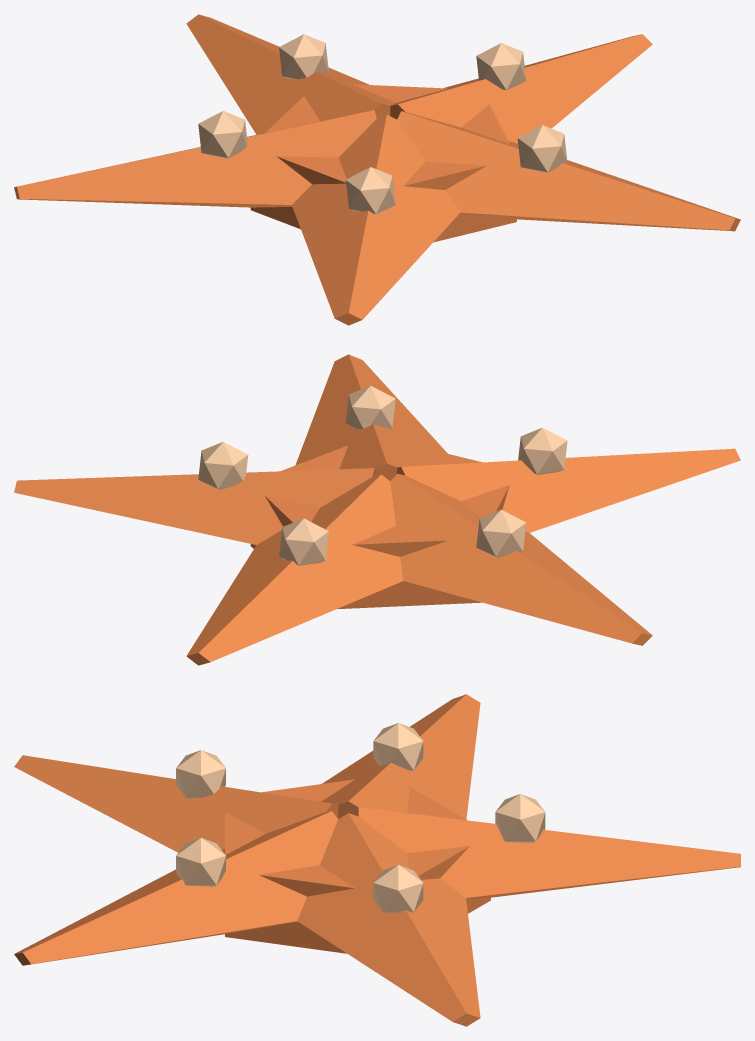
File: starfish.glb
The picture shows the model from 3 angles, top to bottom: view 1: azimuth 30°, elevation 25°; view 2: azimuth 150°, elevation 25°; view 3: azimuth 270°, elevation 25°; orthographic projection. The views are drawn at different scales.
Visible parts, largest first — view 1: starfish; view 2: starfish; view 3: starfish.
Part boxes in pixels (bbox=[...]): starfish: bbox=[14, 14, 740, 325]; starfish: bbox=[14, 354, 740, 665]; starfish: bbox=[14, 694, 740, 1026].
Size of the model in its own units: 0.5198 by 0.09 by 0.4943.
